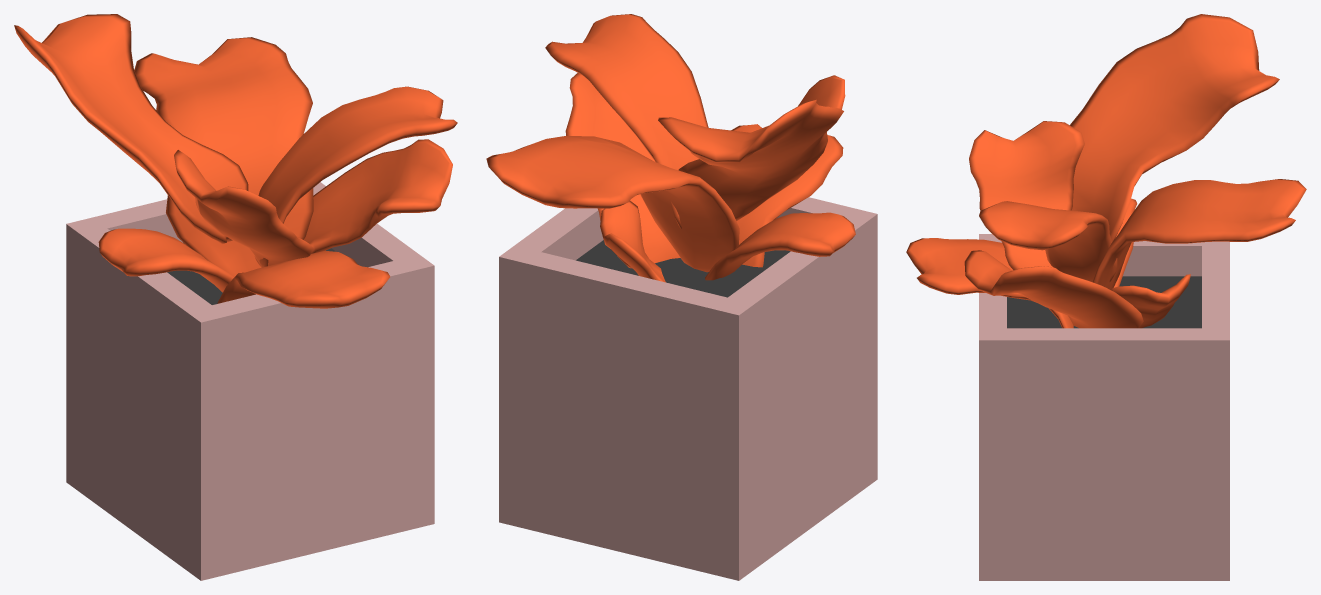
File: Folige_04.fbx
3 renders of one model, left to right at view 1: azimuth 30°, elevation 25°; view 2: azimuth 150°, elevation 25°; view 3: azimuth 270°, elevation 25°, orthographic. The views are drawn at different scales.
Parts seen in each view (by area): view 1: Cube.362; view 2: Cube.362; view 3: Cube.362.
Part boxes in pixels (left/top/right/bottom): Cube.362: left=14, top=14, right=457, bottom=580; Cube.362: left=486, top=14, right=877, bottom=580; Cube.362: left=906, top=14, right=1306, bottom=580.
Bounding box in the file's own units: 45.55 × 60.76 × 50.57.
